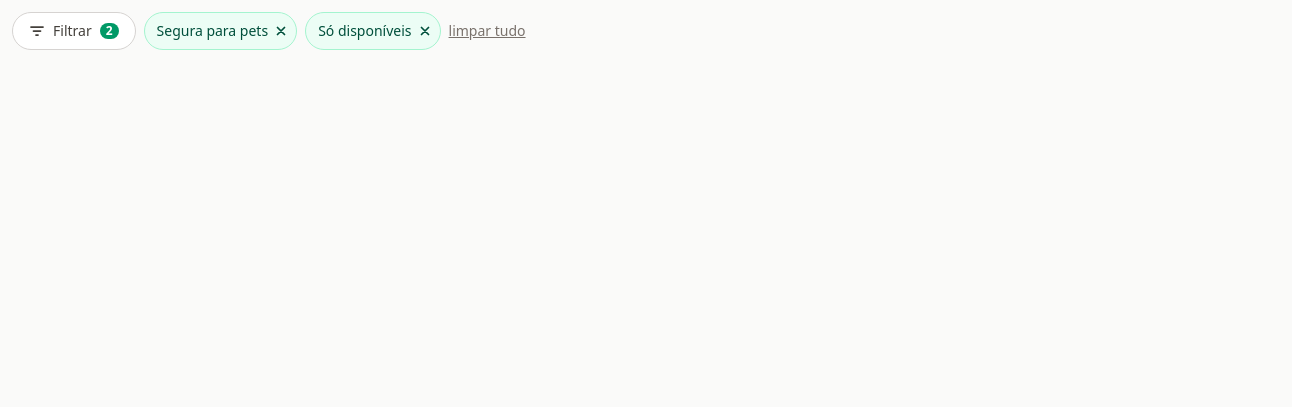
it: marcadores › reflete o que veio da URL
Click the button "Filtrar 2".
click(74, 31)  # box x1=12 y1=12 x2=136 y2=50
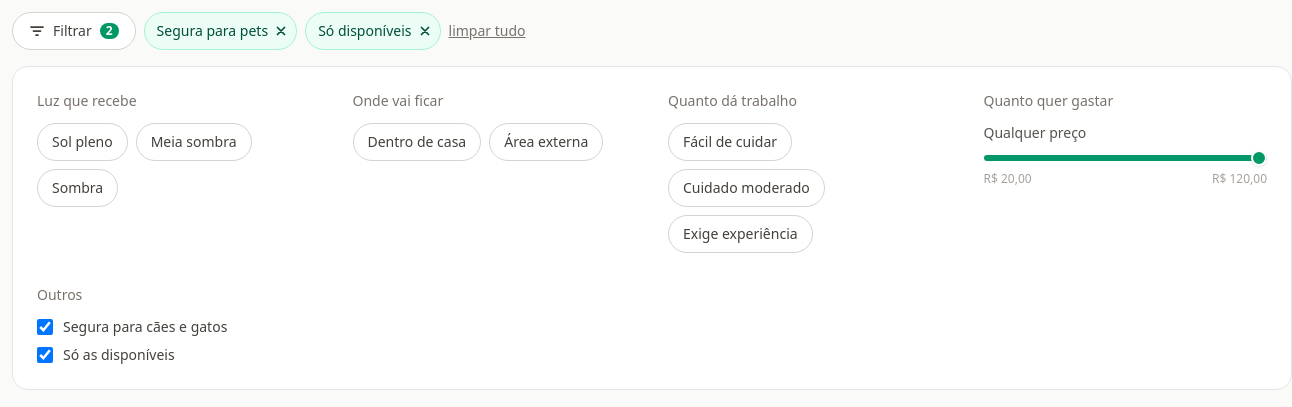
Check: the checkbox labelled "Segura para cães e gatos" is checked, box x1=37 y1=319 x2=53 y2=335
Check: the checkbox labelled "Só as disponíveis" is checked, box x1=37 y1=347 x2=53 y2=363
